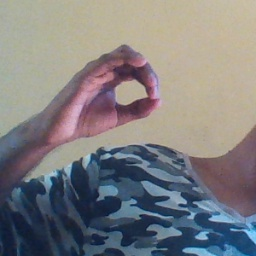O: (40, 38, 167, 140)
